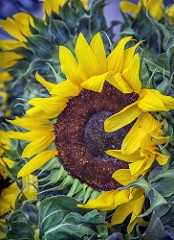flower: (6, 27, 174, 239)
